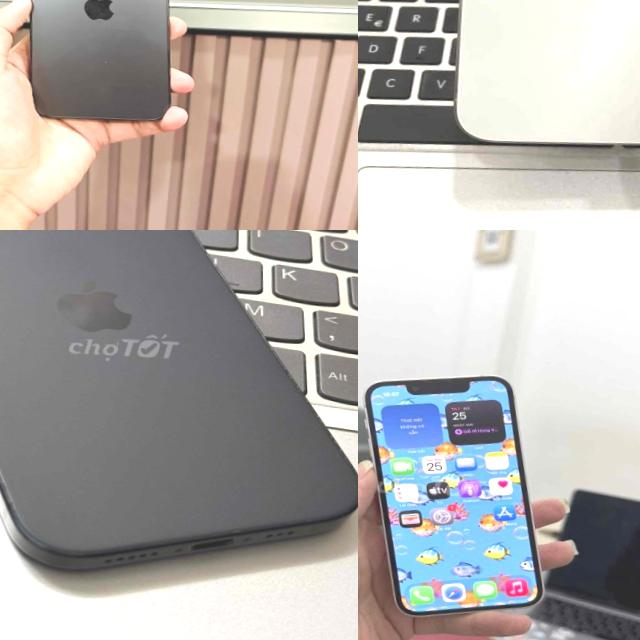gen_12_13: (358, 361, 555, 624), (18, 0, 183, 126)
gen_15: (0, 230, 358, 597), (438, 0, 640, 182)
